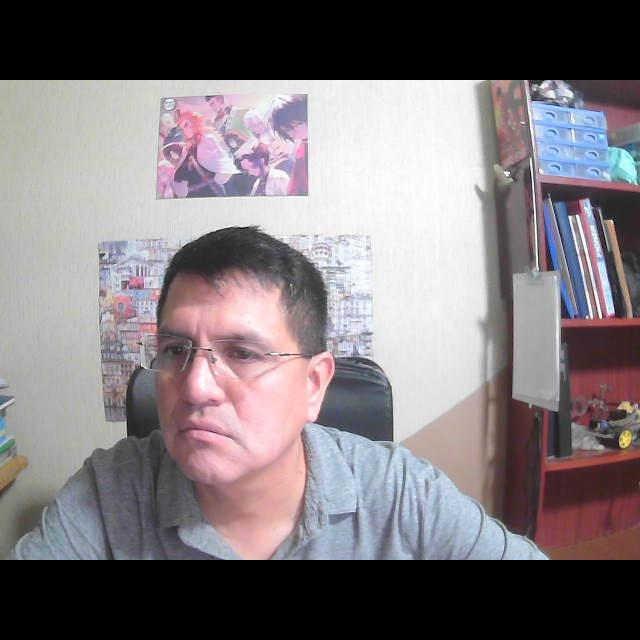cesar: (116, 216, 354, 506)
